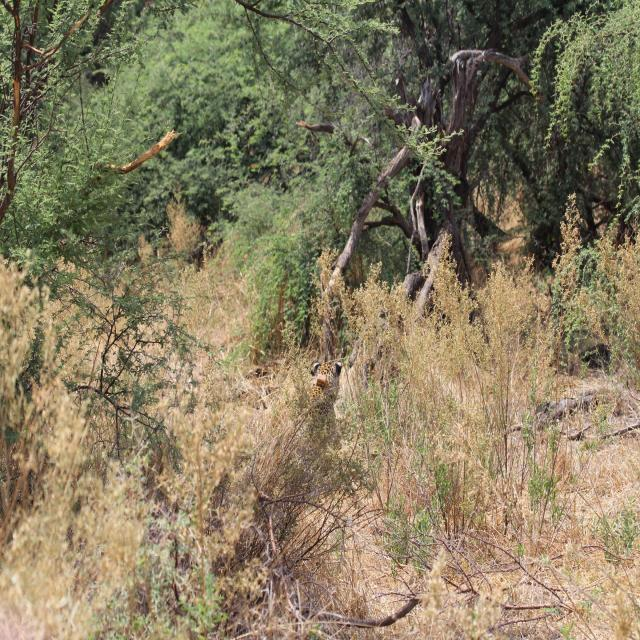Leopard: (286, 354, 354, 451)
